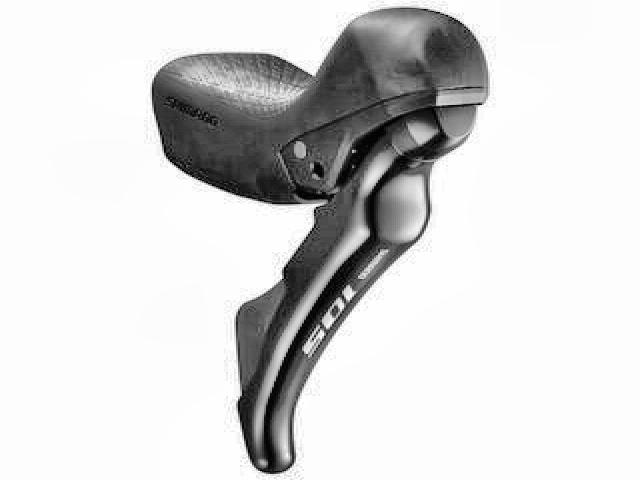sti_shifter: (150, 2, 493, 475)
